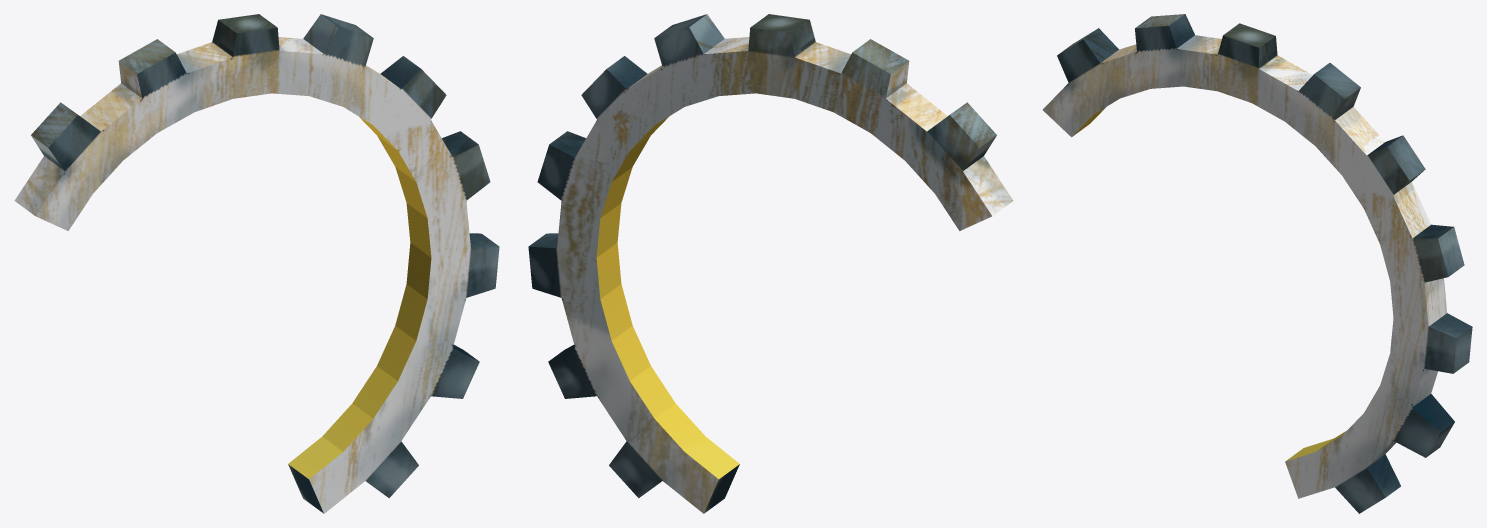
The model's file is Debris1c.obj.
3 renders of one model, left to right at view 1: azimuth 30°, elevation 25°; view 2: azimuth 150°, elevation 25°; view 3: azimuth 330°, elevation 25°, orthographic. The views are drawn at different scales.
Visible parts, largest first — view 1: Circle; view 2: Circle; view 3: Circle.
Part boxes in pixels (left/top/right/bottom): Circle: left=14, top=14, right=499, bottom=513; Circle: left=528, top=14, right=1013, bottom=513; Circle: left=1042, top=14, right=1472, bottom=513.
Size of the model in its own units: 1.96 by 2.02 by 0.1536.
